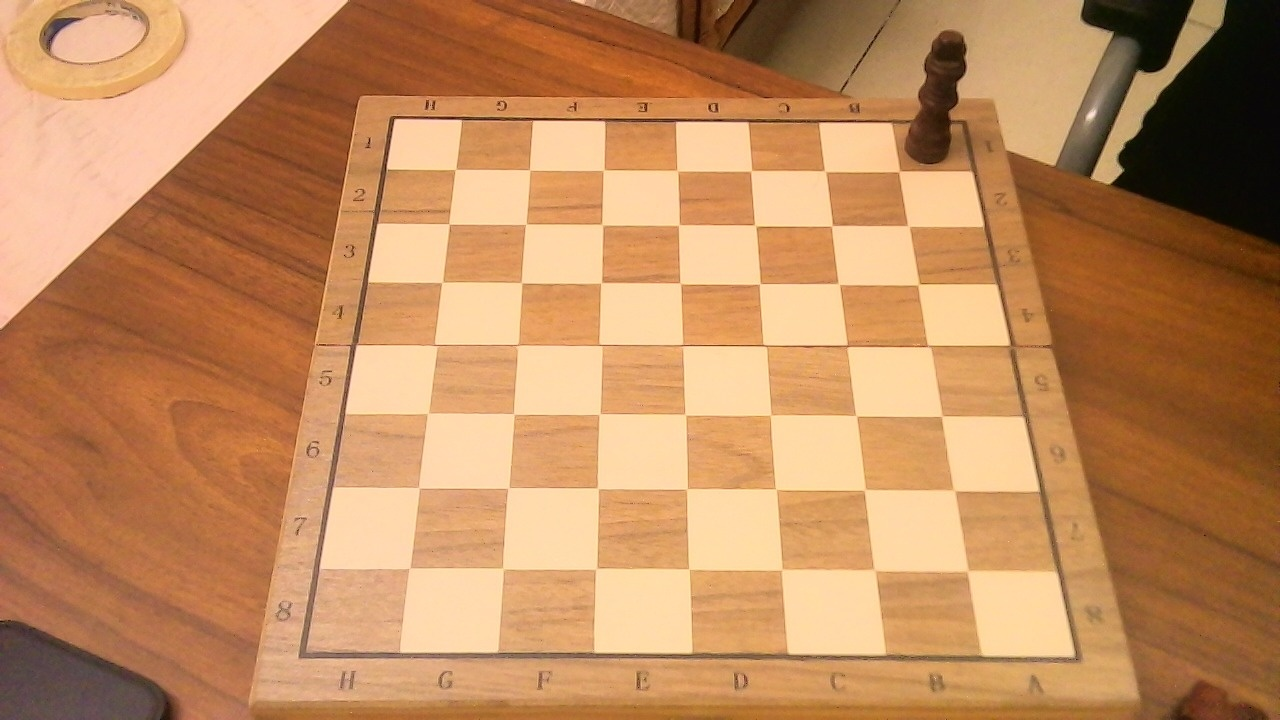k: (919, 17, 982, 166)
